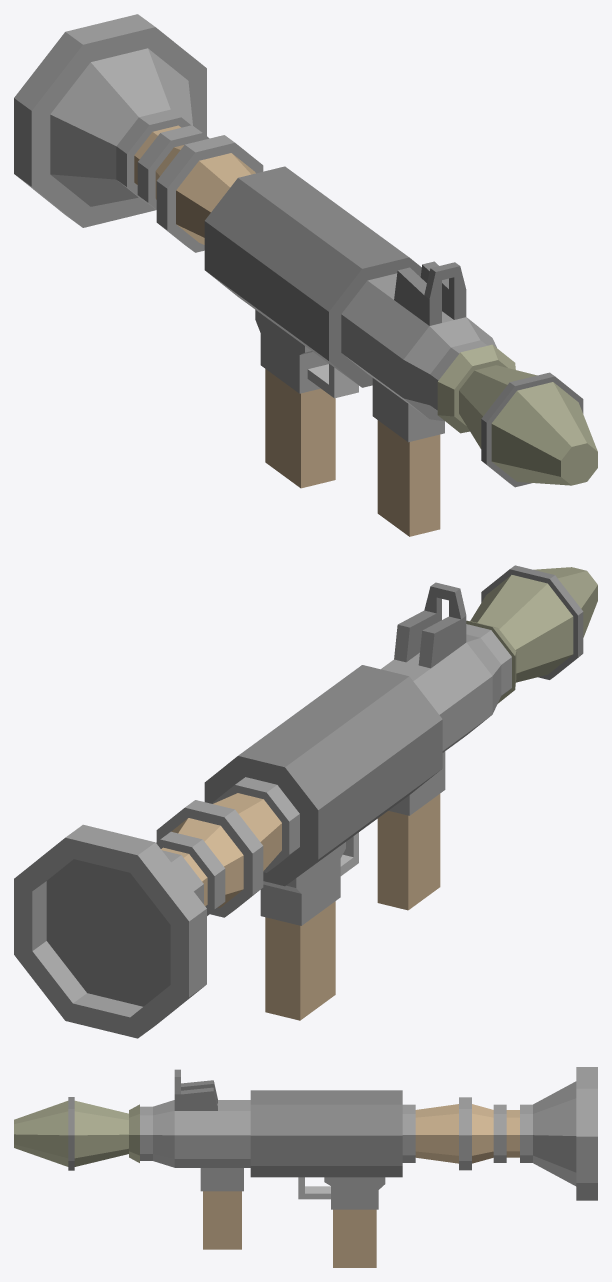
File: rocketlauncher.glb
3 views of the same model, one above another, from view 1: azimuth 30°, elevation 25°; view 2: azimuth 150°, elevation 25°; view 3: azimuth 270°, elevation 25° (orthographic). The views are drawn at different scales.
Parts seen in each view (by area): view 1: rocketlauncher; view 2: rocketlauncher; view 3: rocketlauncher.
Boxes of the visible parts, box(x1,y1,x2,y2) form: rocketlauncher: box(14, 14, 597, 536); rocketlauncher: box(14, 565, 597, 1038); rocketlauncher: box(14, 1067, 597, 1267).
Bounding box in the file's own units: 0.8538 × 1.44 × 4.04.
